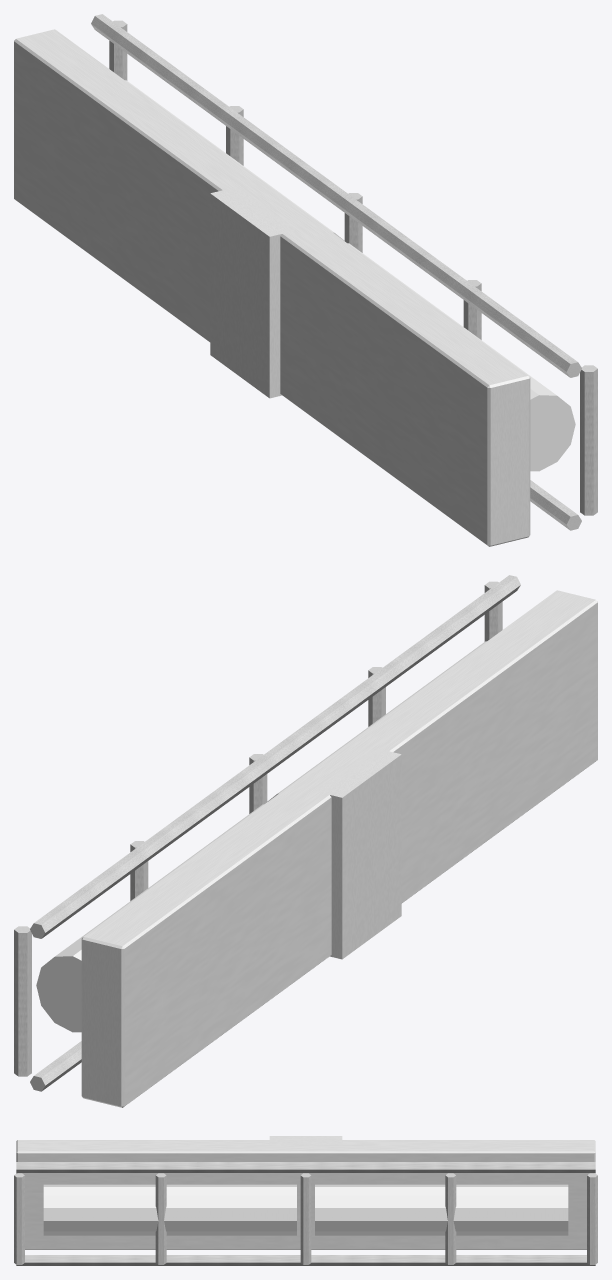
File: offshoresealedlinearlight.obj
3 renders of one model, top to bottom at view 1: azimuth 30°, elevation 25°; view 2: azimuth 150°, elevation 25°; view 3: azimuth 270°, elevation 25°, orthographic. The views are drawn at different scales.
Parts seen in each view (by area): view 1: Metal, Trim, Base, Light1; view 2: Metal, Trim, Base, Light0; view 3: Metal, Trim, Light0, Light1, Base.
Part boxes in pixels (left/top/right/bottom): Metal: left=14, top=29, right=530, bottom=546; Trim: left=91, top=14, right=597, bottom=530; Base: left=210, top=186, right=296, bottom=398; Light1: left=348, top=243, right=575, bottom=471; Metal: left=81, top=590, right=597, bottom=1107; Trim: left=14, top=575, right=520, bottom=1091; Base: left=315, top=748, right=401, bottom=959; Light0: left=36, top=804, right=263, bottom=1032; Metal: left=16, top=1140, right=595, bottom=1249; Trim: left=14, top=1162, right=597, bottom=1265; Light0: left=315, top=1184, right=568, bottom=1235; Light1: left=43, top=1184, right=296, bottom=1235; Base: left=269, top=1136, right=342, bottom=1144.
Bounding box in the file's own units: 0.2806 × 0.3712 × 1.94.
